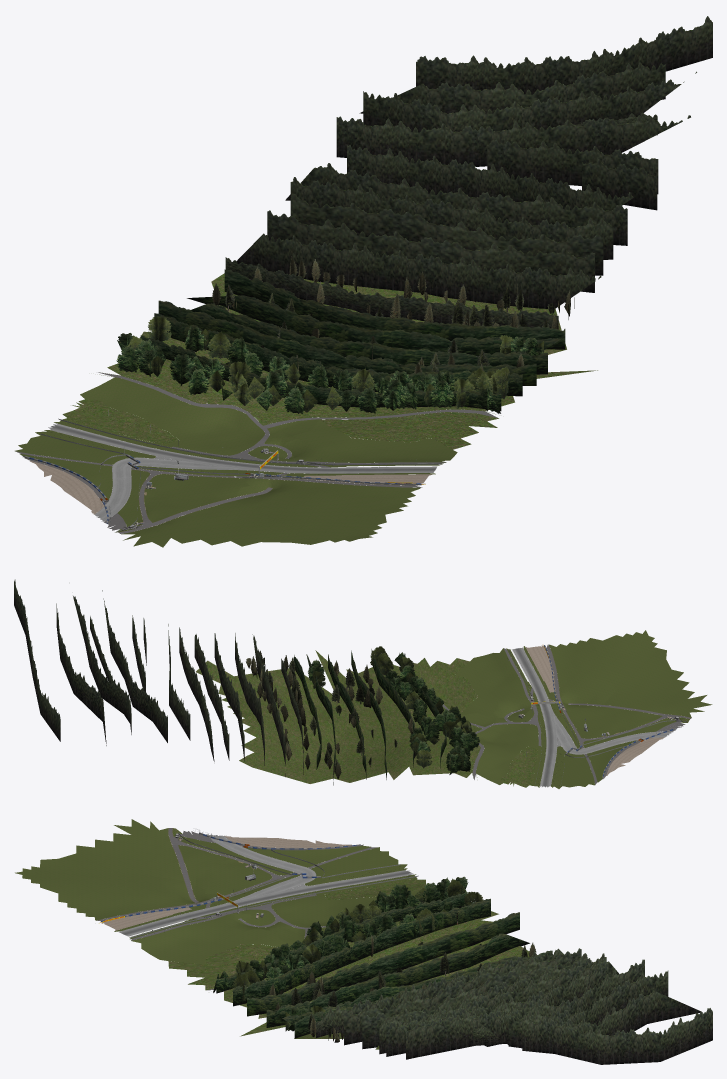
3 renders of one model, top to bottom at view 1: azimuth 30°, elevation 25°; view 2: azimuth 150°, elevation 25°; view 3: azimuth 270°, elevation 25°, orthographic. The views are drawn at different scales.
Visible parts, largest first — view 1: tile_t12; view 2: tile_t12; view 3: tile_t12.
Boxes of the visible parts, x1=… form: tile_t12: x1=15, y1=16, x2=712, y2=547; tile_t12: x1=14, y1=579, x2=712, y2=788; tile_t12: x1=15, y1=819, x2=712, y2=1064.
Size of the model in its own units: 647 by 146 by 574.
Materials: 33 (33 with a texture image).
